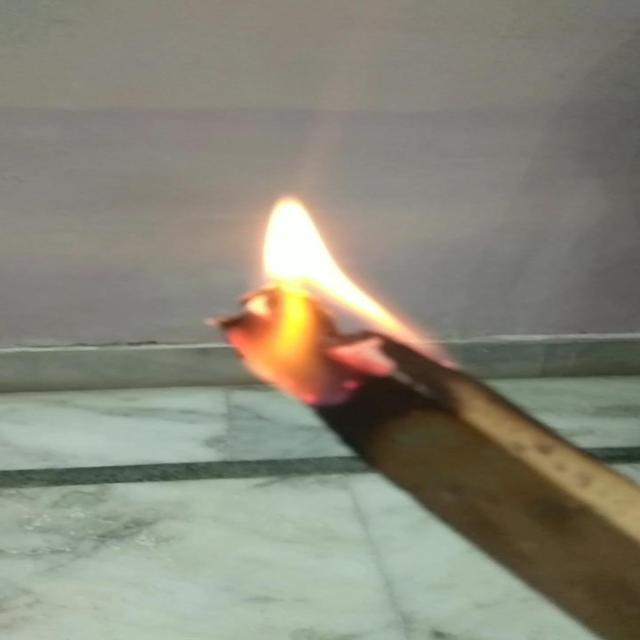smoke: (206, 185, 454, 408)
